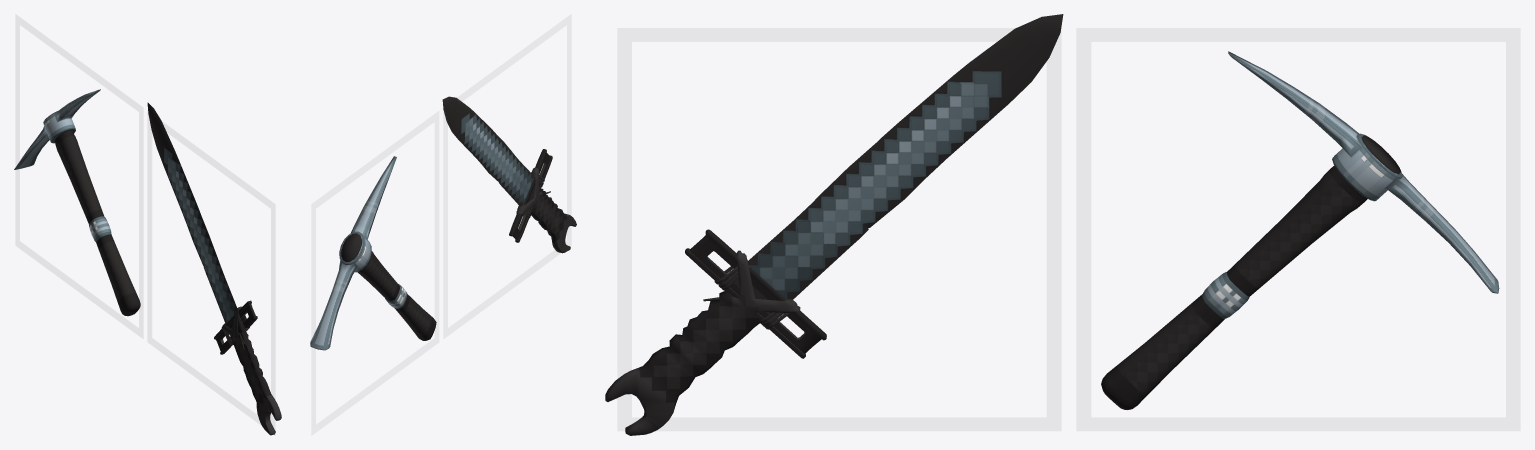
Rendered from pixel_pick_and_pixel_sword.glb.
The picture shows the model from 3 angles, left to right: view 1: azimuth 30°, elevation 25°; view 2: azimuth 150°, elevation 25°; view 3: azimuth 270°, elevation 25°; orthographic projection. The views are drawn at different scales.
Visible parts, largest first — view 1: Object_4, Object_3; view 2: Object_4, Object_3; view 3: Object_4, Object_3.
Boxes of the visible parts, x1,y1,x2,y2 form: Object_4: [147, 102, 281, 435]; Object_3: [14, 89, 140, 316]; Object_4: [442, 96, 576, 253]; Object_3: [310, 156, 436, 350]; Object_4: [605, 14, 1063, 435]; Object_3: [1101, 51, 1499, 409].
Bounding box in the file's own units: 0.6005 × 6.26 × 12.36.
3 materials, 2 textured.
